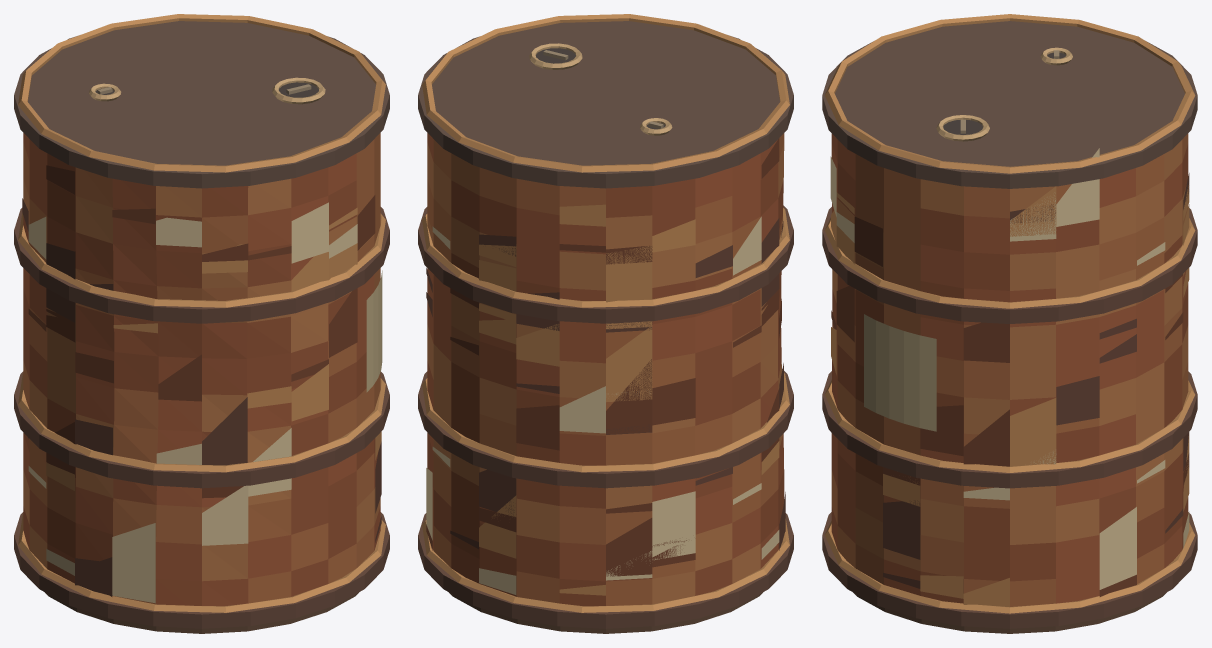
Rendered from 生锈汽油桶.glb.
3 views of the same model, side by side, from view 1: azimuth 30°, elevation 25°; view 2: azimuth 150°, elevation 25°; view 3: azimuth 270°, elevation 25° (orthographic).
Parts seen in each view (by area): view 1: Dented shell, Rims and hoops, Flaking paint, Filler caps, Faded fuel label; view 2: Dented shell, Rims and hoops, Flaking paint, Filler caps; view 3: Dented shell, Rims and hoops, Flaking paint, Faded fuel label, Filler caps.
Boxes of the visible parts, <box> form: Dented shell: <box>23,133,380,606</box>; Rims and hoops: <box>14,14,389,633</box>; Flaking paint: <box>22,165,381,603</box>; Filler caps: <box>89,77,325,104</box>; Faded fuel label: <box>366,270,382,392</box>; Dented shell: <box>427,133,784,606</box>; Rims and hoops: <box>418,14,793,633</box>; Flaking paint: <box>426,138,785,595</box>; Filler caps: <box>529,43,672,135</box>; Dented shell: <box>831,133,1188,606</box>; Rims and hoops: <box>822,14,1197,633</box>; Flaking paint: <box>830,148,1189,607</box>; Faded fuel label: <box>864,314,936,431</box>; Filler caps: <box>936,47,1072,141</box>.
Size of the model in its own units: 0.642 by 0.9007 by 0.642.
